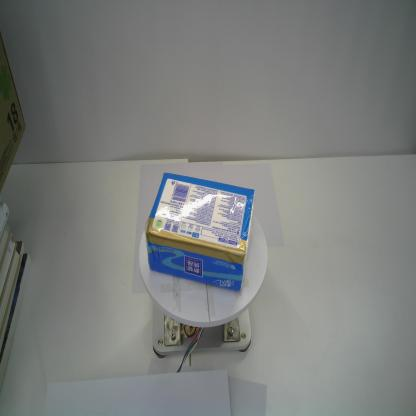Tissue: (145, 172, 256, 292)
